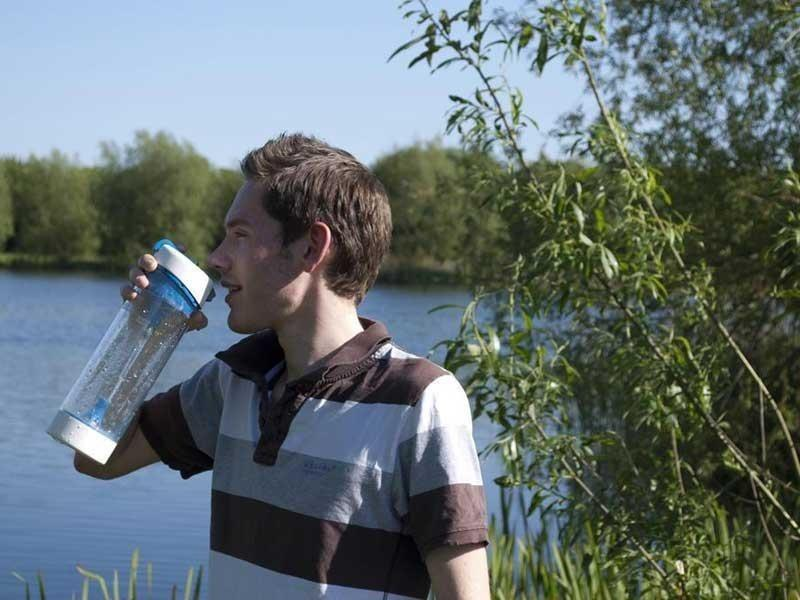gym bottle: (47, 239, 214, 465)
